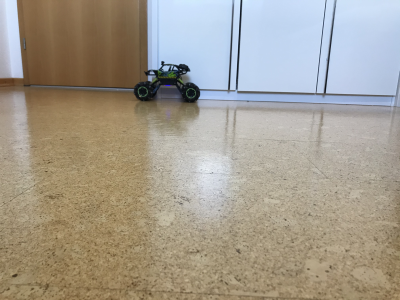remote control car: (132, 58, 203, 104)
